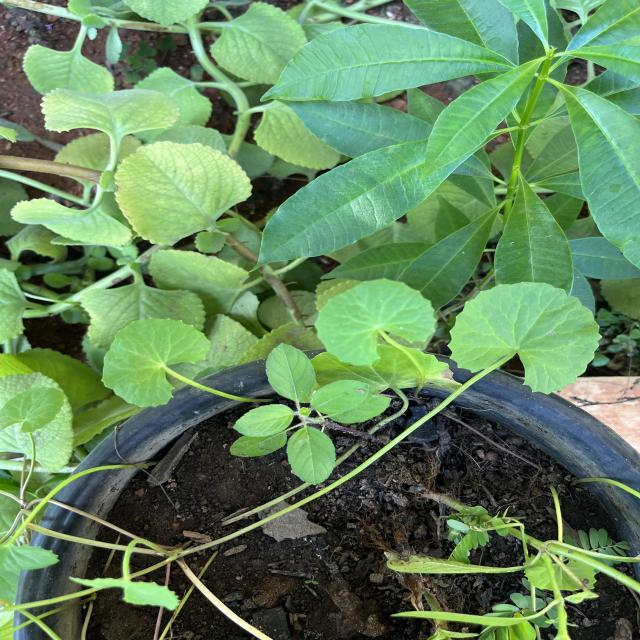Centella asiatica: (444, 278, 604, 398), (98, 315, 214, 410), (0, 384, 67, 436)
